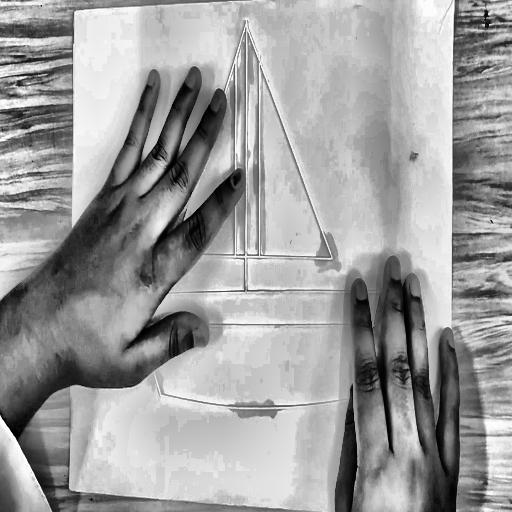boat: (129, 13, 385, 425)
bottom_left: (67, 483, 72, 493)
top_left: (72, 6, 78, 17)
